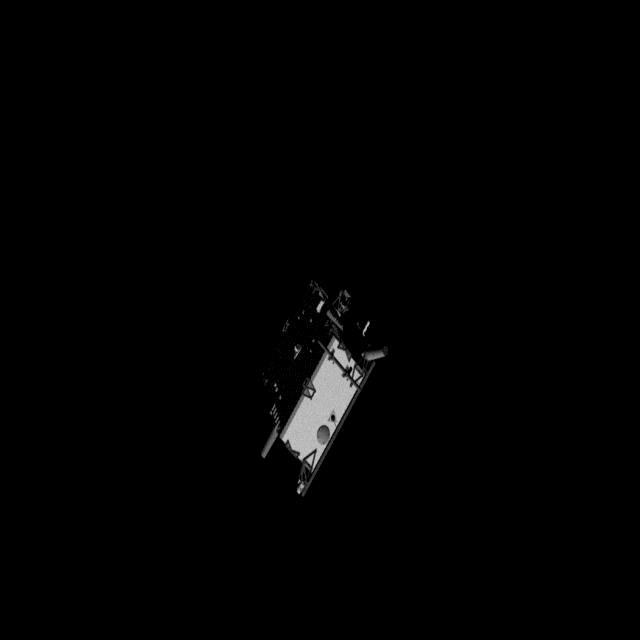satellite: (250, 276, 388, 502)
